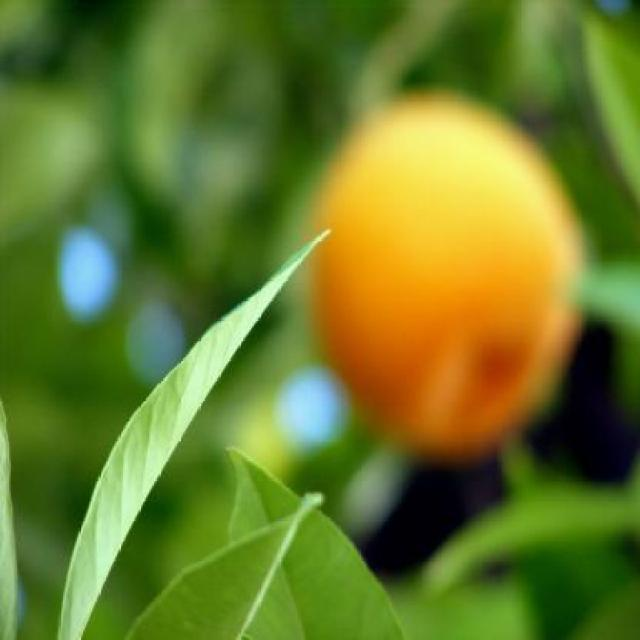Orange: (290, 63, 587, 462)
